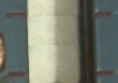border: (90, 10, 115, 19), (92, 70, 117, 78), (5, 11, 29, 18), (9, 71, 30, 78)
